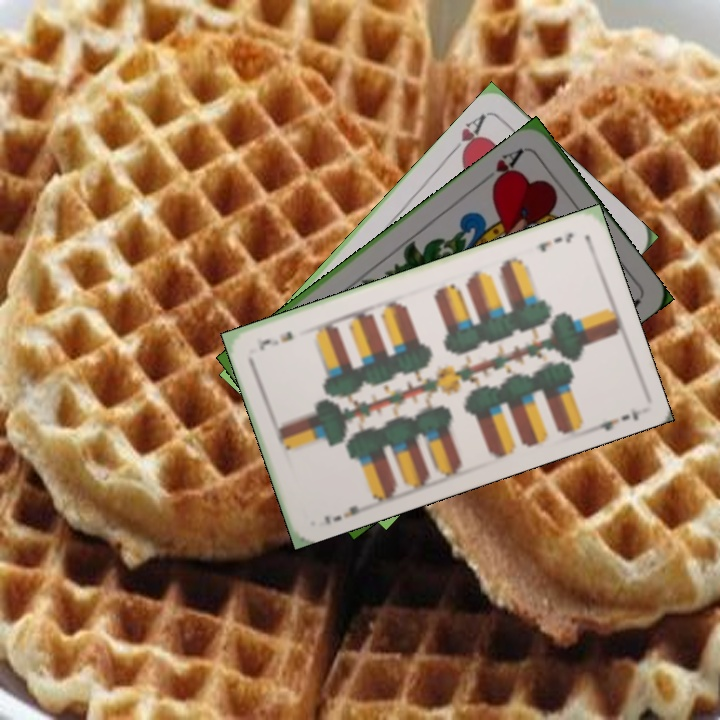E7: (320, 501, 370, 528), (534, 227, 576, 255)
HA: (478, 144, 529, 191), (445, 109, 489, 162)
